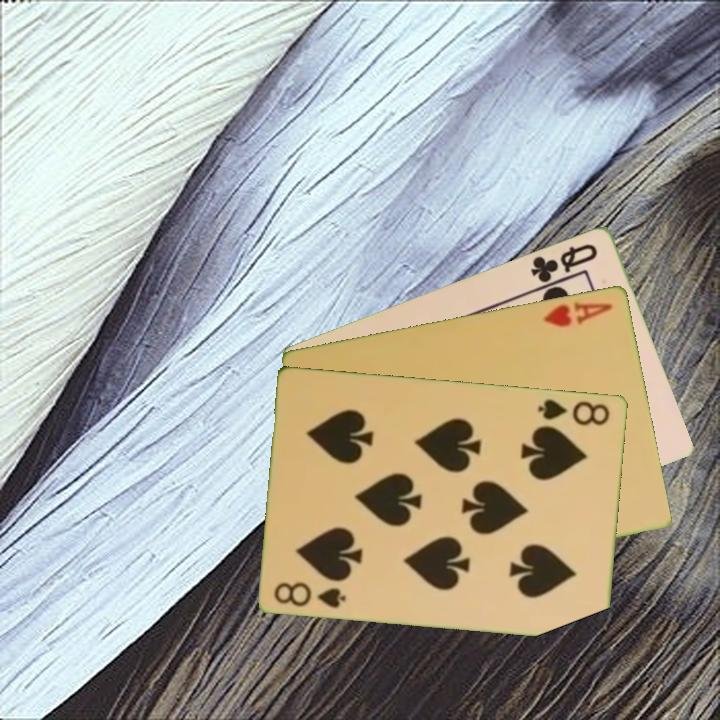8s: (534, 395, 613, 428), (271, 578, 350, 610)
Ah: (540, 298, 616, 330)
Qc: (527, 239, 601, 290)
